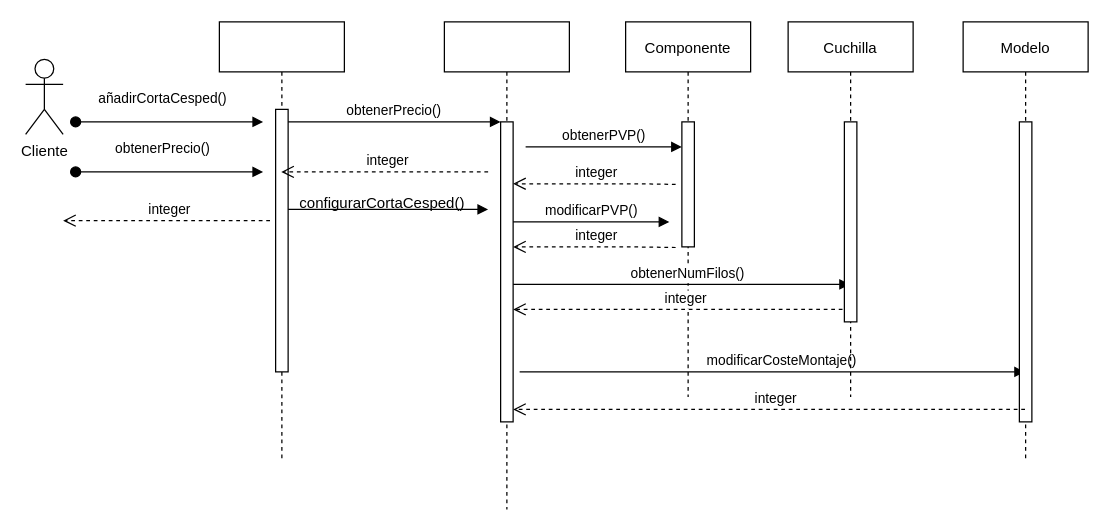
Image size: 1110x531. Some labels were removed from this diagram. The box of each missing label's shape, as (x1, y1, x2, y2) in pixels:
Carrito: (218, 21, 344, 459)
Corta-Césped: (443, 21, 569, 509)
